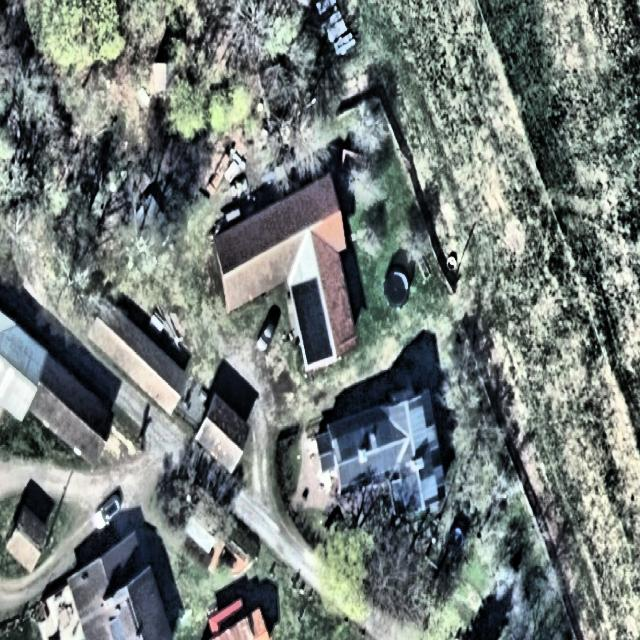roof_pv: (291, 273, 335, 367)
